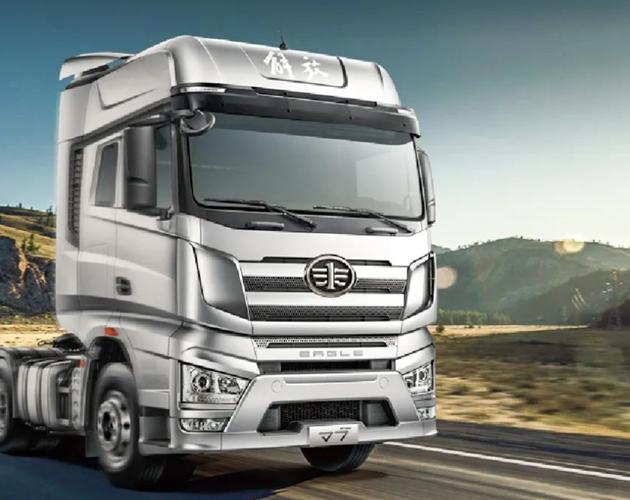卡车: (2, 26, 444, 489)
